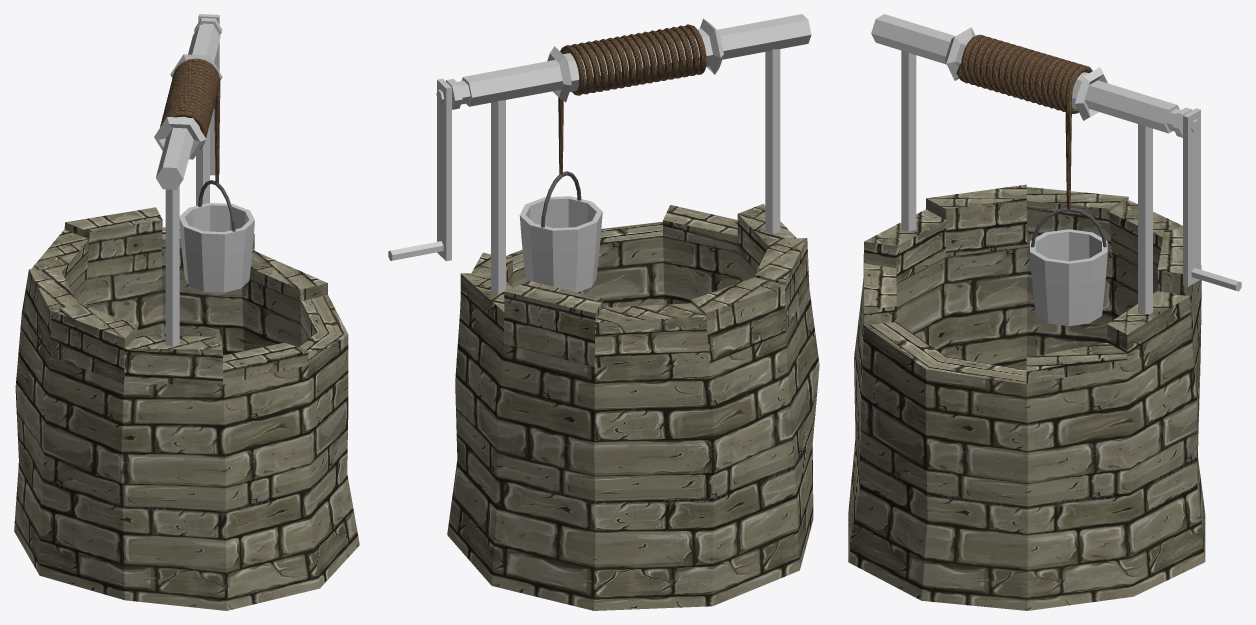
The model's file is Well.fbx.
3 renders of one model, left to right at view 1: azimuth 30°, elevation 25°; view 2: azimuth 150°, elevation 25°; view 3: azimuth 270°, elevation 25°, orthographic. The views are drawn at different scales.
Parts seen in each view (by area): view 1: Well, BucketHandle, MainBar, Rope, Pole1, Pole2, Handle1; view 2: Well, MainBar, Rope, BucketHandle, Pole1, Pole2, Handle1, Handle2; view 3: Well, MainBar, BucketHandle, Rope, Handle1, Pole1, Pole2, Handle2.
Part boxes in pixels (x1,y1,x2,y2): Well: (14,207,359,610); BucketHandle: (179,180,254,292); MainBar: (154,18,222,189); Rope: (160,58,220,183); Pole1: (165,186,179,346); Pole2: (196,124,209,205); Handle1: (198,14,219,175); Well: (447,204,819,610); MainBar: (436,14,811,109); Rope: (558,24,706,174); BucketHandle: (519,171,602,292); Pole1: (765,49,780,233); Pole2: (491,100,505,293); Handle1: (437,78,451,261); Handle2: (388,241,443,260); Well: (848,184,1205,610); MainBar: (871,14,1200,137); BucketHandle: (1030,207,1107,326); Rope: (956,34,1092,210); Handle1: (1183,108,1200,286); Pole1: (901,50,916,231); Pole2: (1138,124,1152,314); Handle2: (1191,268,1241,291).
Bounding box in the file's own units: 2.17 × 3.14 × 2.3.
